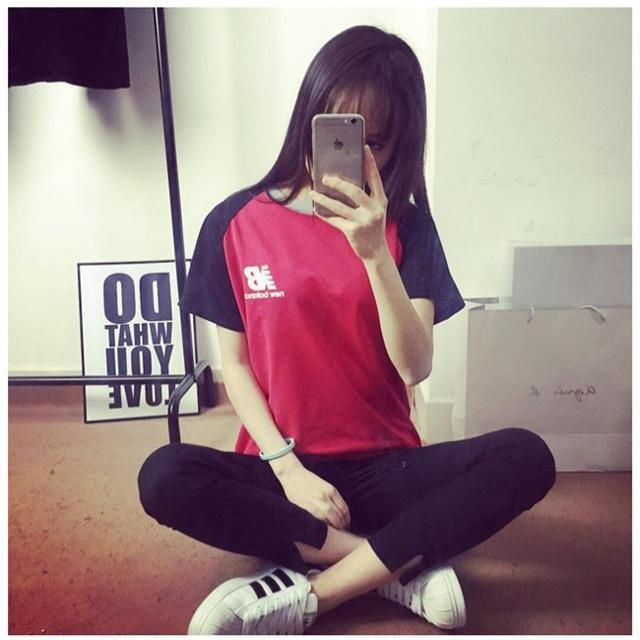short-sleeve-top: (192, 174, 494, 433)
trousers: (139, 443, 562, 573)
